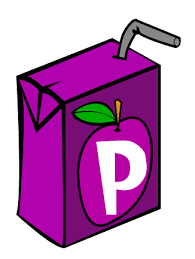Juice_Box: (18, 21, 176, 243)
